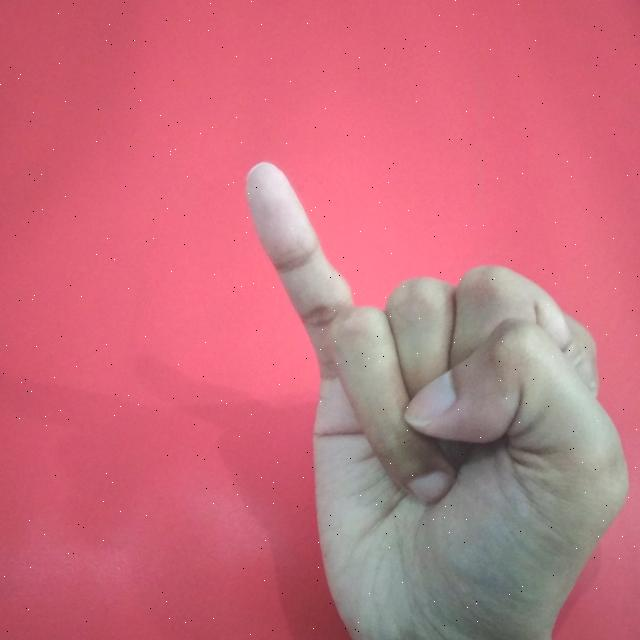I: (243, 161, 628, 640)
